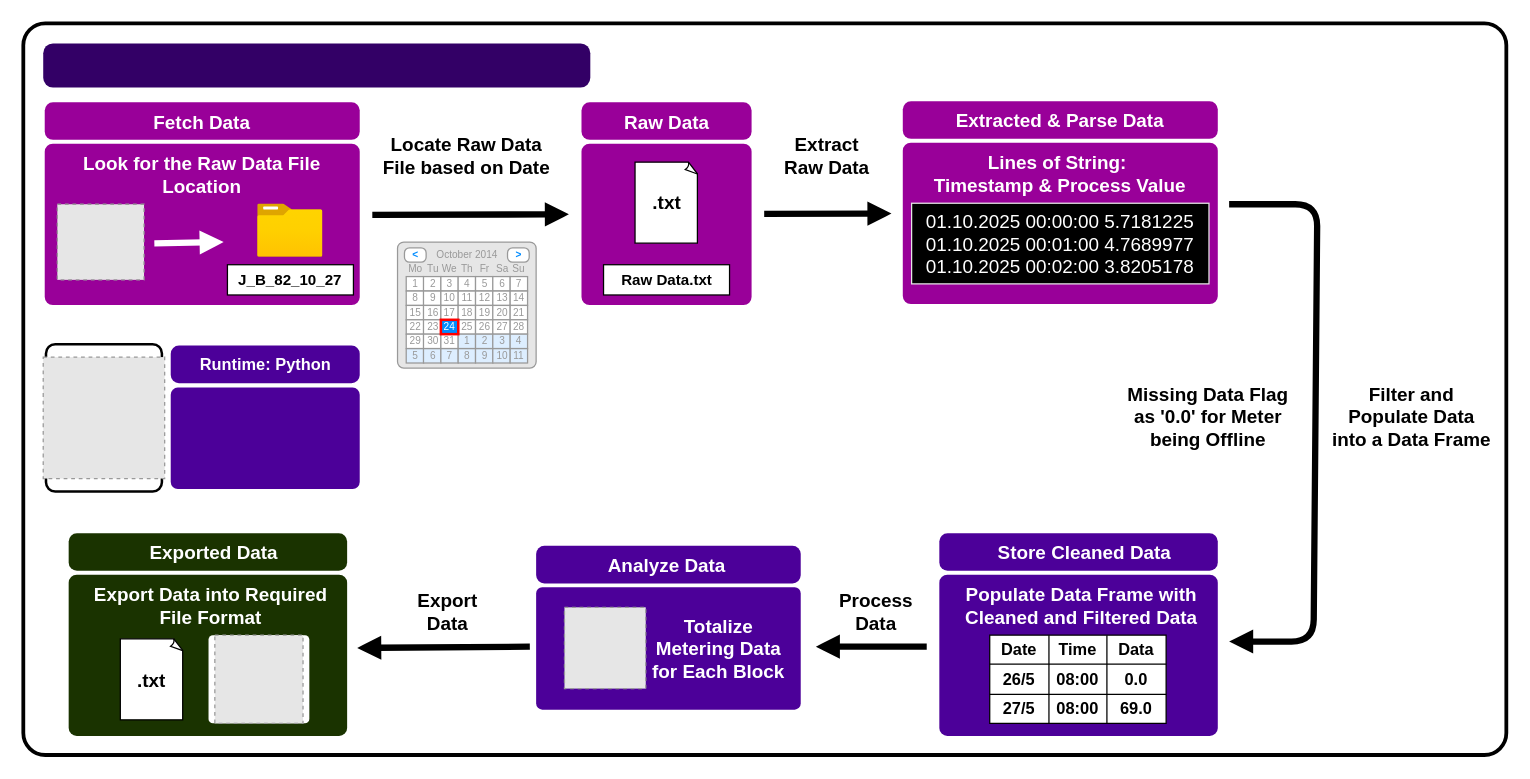
Image size: 1530x779. Some labels were removed from this diagram. Grey dashed boxes stand in for pictures. The box of each missing label's shape, as (x1, y1, x2, y2) in pixels:
Libraries: 1) Pandas 2) Numpy 3) Openpyxl: (170, 387, 359, 488)
System Architecture: Metering Data Parser: (43, 43, 590, 87)
